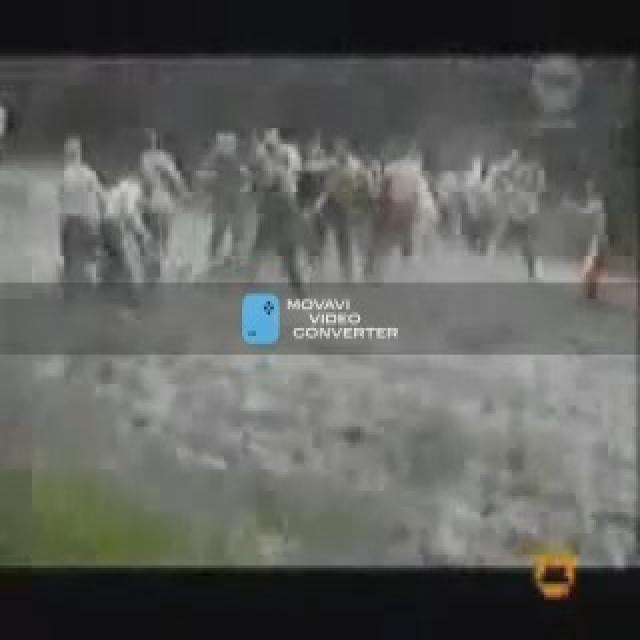non-voilence: (0, 48, 638, 587), (44, 117, 614, 296), (530, 549, 576, 600)
